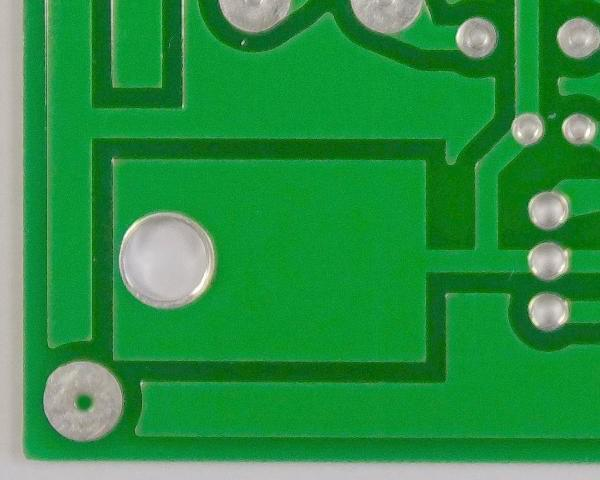missing hole: (34, 357, 132, 445)
